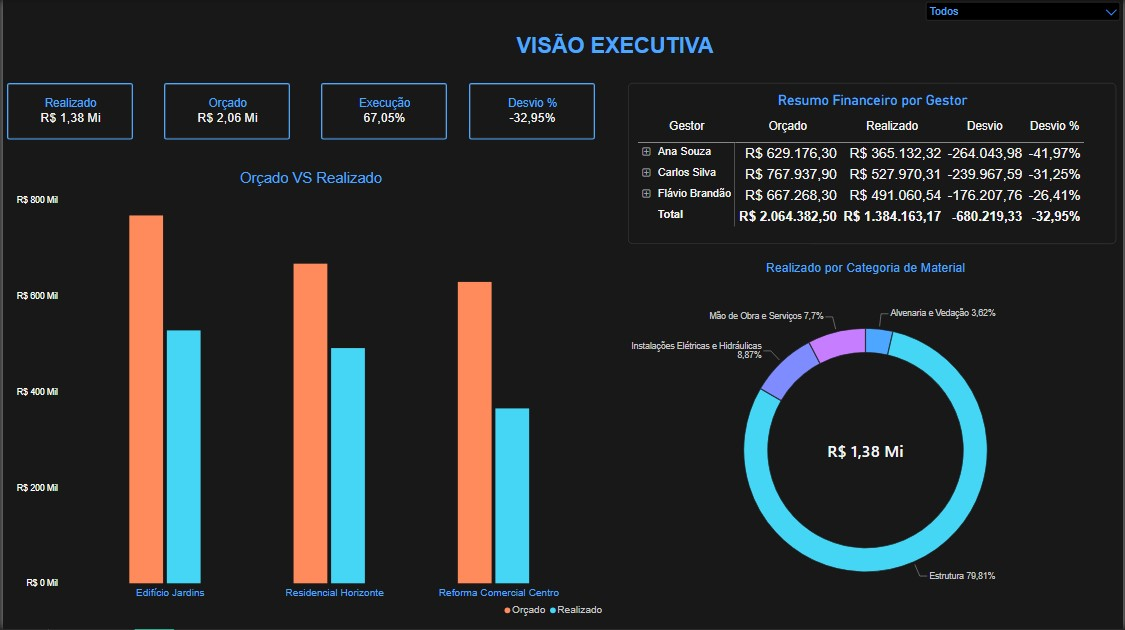

The dashboard page shown, as its layout file describes it:
{"tool":"powerbi","page":{"name":"Página 1","canvas":[1920,1080],"ordinal":0},"visuals":[{"type":"cardVisual","title":"ORÇADO","fields":{"Data":["dMateriais.Orçado"]},"box":[276,144,216,97.7],"z":0},{"type":"cardVisual","fields":{"Data":["dMateriais.Desvio %"]},"box":[798.9,144,216,97.7],"z":1000},{"type":"cardVisual","fields":{"Data":["dMateriais.Execução"]},"box":[545.1,144,216,97.7],"z":2000},{"type":"cardVisual","fields":{"Data":["dMateriais.Realizado"]},"box":[6.9,144,216,97.7],"z":3000},{"type":"lineClusteredColumnComboChart","title":"Orçado VS Realizado","fields":{"Category":["dObras.Nome_Obra"],"Y":["dMateriais.Orçado","dMateriais.Realizado"]},"box":[6.9,277.7,1042.3,802.3],"z":4000},{"type":"slicer","fields":{"Values":["dObras.Gestor","dObras.Nome_Obra"]},"box":[1577.1,0,342.9,77.1],"z":6000},{"type":"textbox","title":"VISÃO EXECUTIVA","box":[812.6,39.4,473.1,68.6],"z":7000},{"type":"donutChart","fields":{"Series":["dMateriais.Nome_Categoria"],"Y":["fCustosReais.Realizado"]},"box":[1049.1,435.4,858.9,637.7],"z":7001},{"type":"pivotTable","title":"Resumo Financeiro por Gestor","fields":{"Rows":["dObras.Gestor","dObras.Nome_Obra"],"Values":["fCustosReais.Orçado","fCustosReais.Realizado","fCustosReais.Desvio","fCustosReais.Desvio %"]},"box":[1071.4,144,836.6,276],"z":7002}]}

Visuals, with their boxes in screenshot pixels (x1, y1, x2, y2), scaled from the page's 1920x1080 canvas onto the 1125x630 screenshot:
"ORÇADO" cardVisual: <bbox>162, 84, 288, 141</bbox>
cardVisual - dMateriais.Desvio %: <bbox>468, 84, 595, 141</bbox>
cardVisual - dMateriais.Execução: <bbox>319, 84, 446, 141</bbox>
cardVisual - dMateriais.Realizado: <bbox>4, 84, 131, 141</bbox>
"Orçado VS Realizado" lineClusteredColumnComboChart: <bbox>4, 162, 615, 629</bbox>
slicer - dObras.Gestor x dObras.Nome_Obra: <bbox>924, 0, 1124, 45</bbox>
"VISÃO EXECUTIVA" textbox: <bbox>476, 23, 753, 63</bbox>
donutChart - dMateriais.Nome_Categoria x fCustosReais.Realizado: <bbox>615, 254, 1118, 626</bbox>
"Resumo Financeiro por Gestor" pivotTable: <bbox>628, 84, 1118, 245</bbox>
